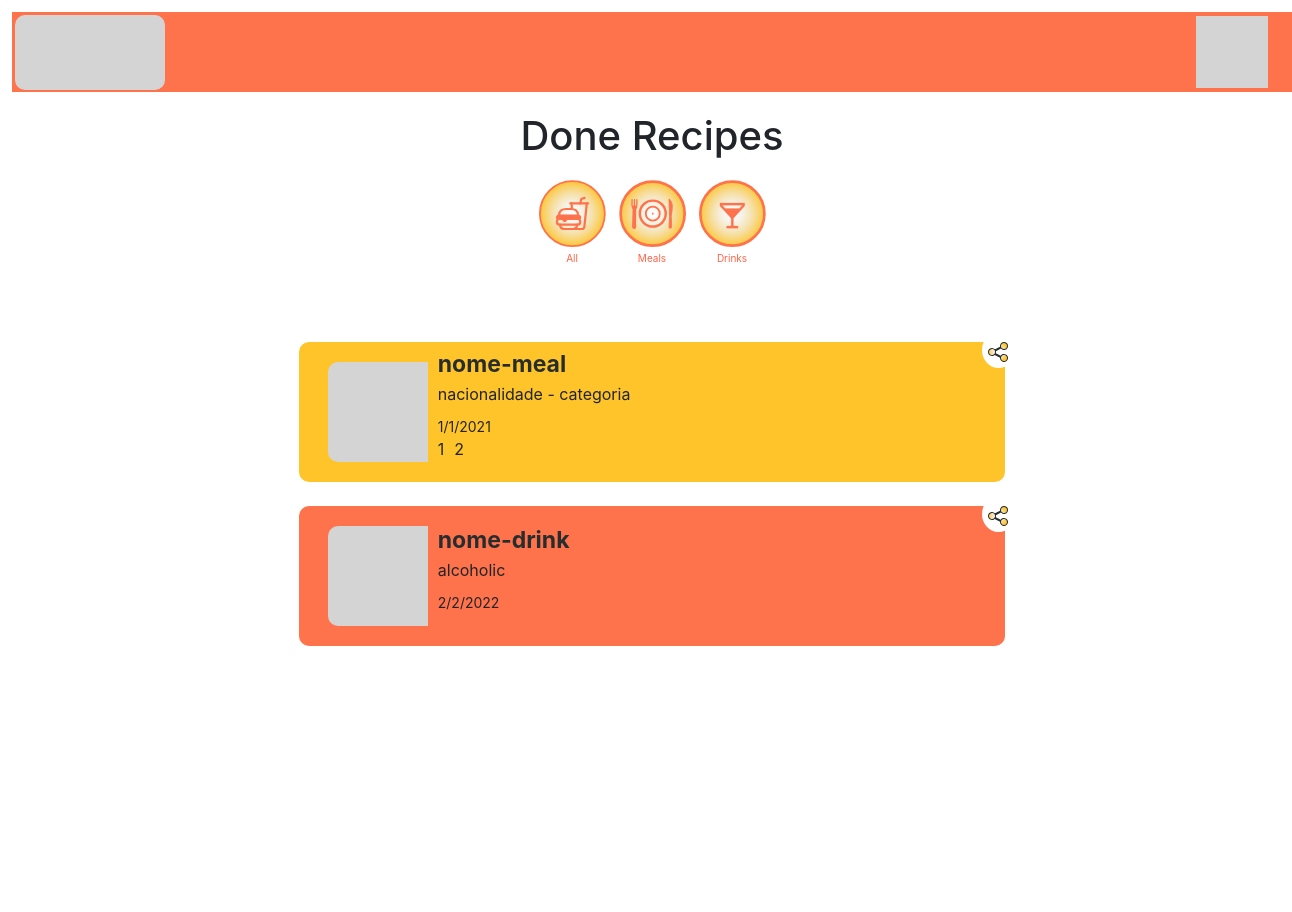
Testes para o componente DoneRecipes › verifica se filtra corretamente as bebidas ao clicar no botão Drinks e retira o filtro ao clicar em All
Expected: the text with test id "0-horizontal-name" reads "nome-meal", [438,350,566,378]
Click the button with test id "filter-by-drink-btn".
click(732, 223)  # box [692,178,772,268]
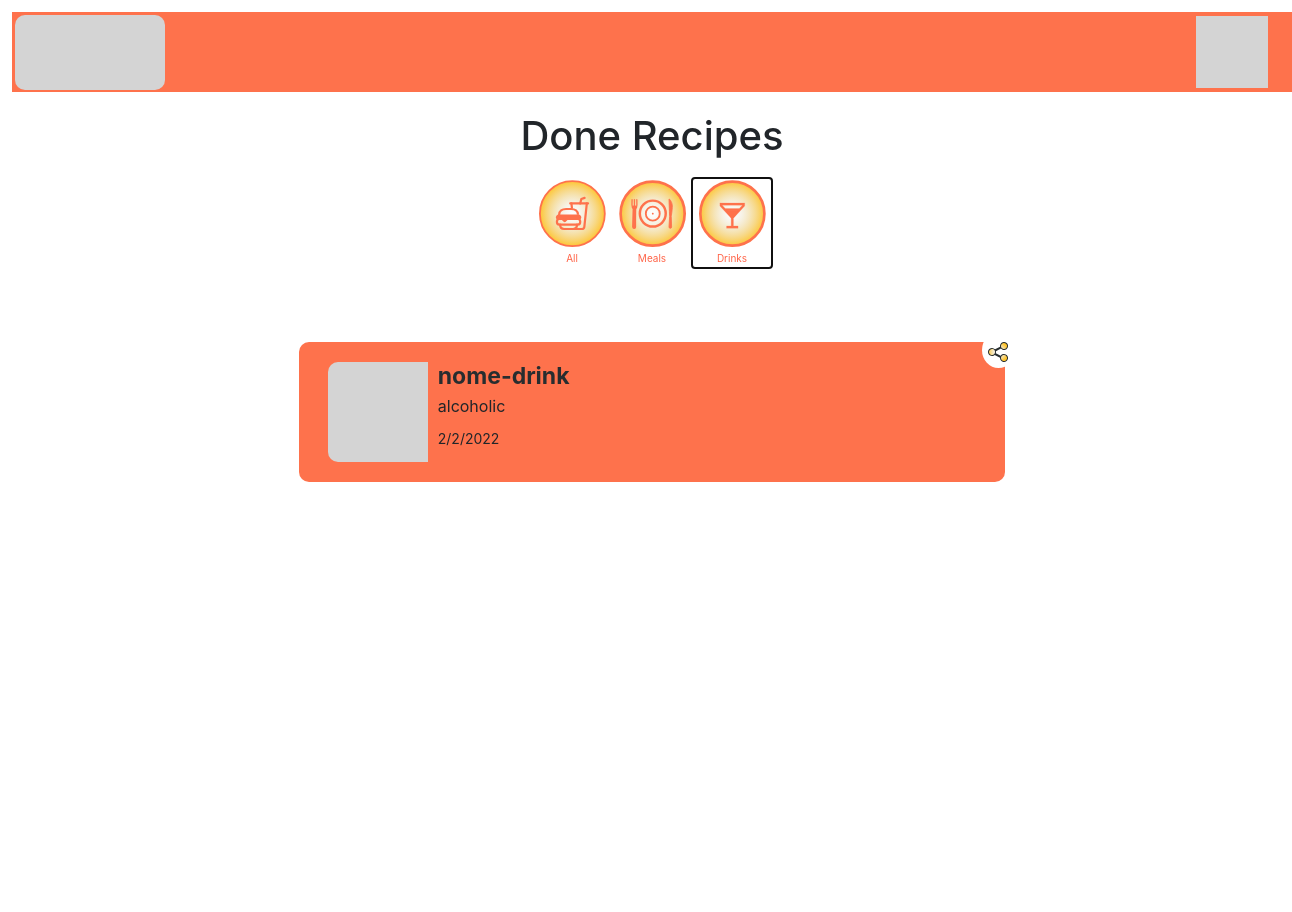
Click the button with test id "filter-by-all-btn".
click(572, 223)  # box [532,178,612,268]
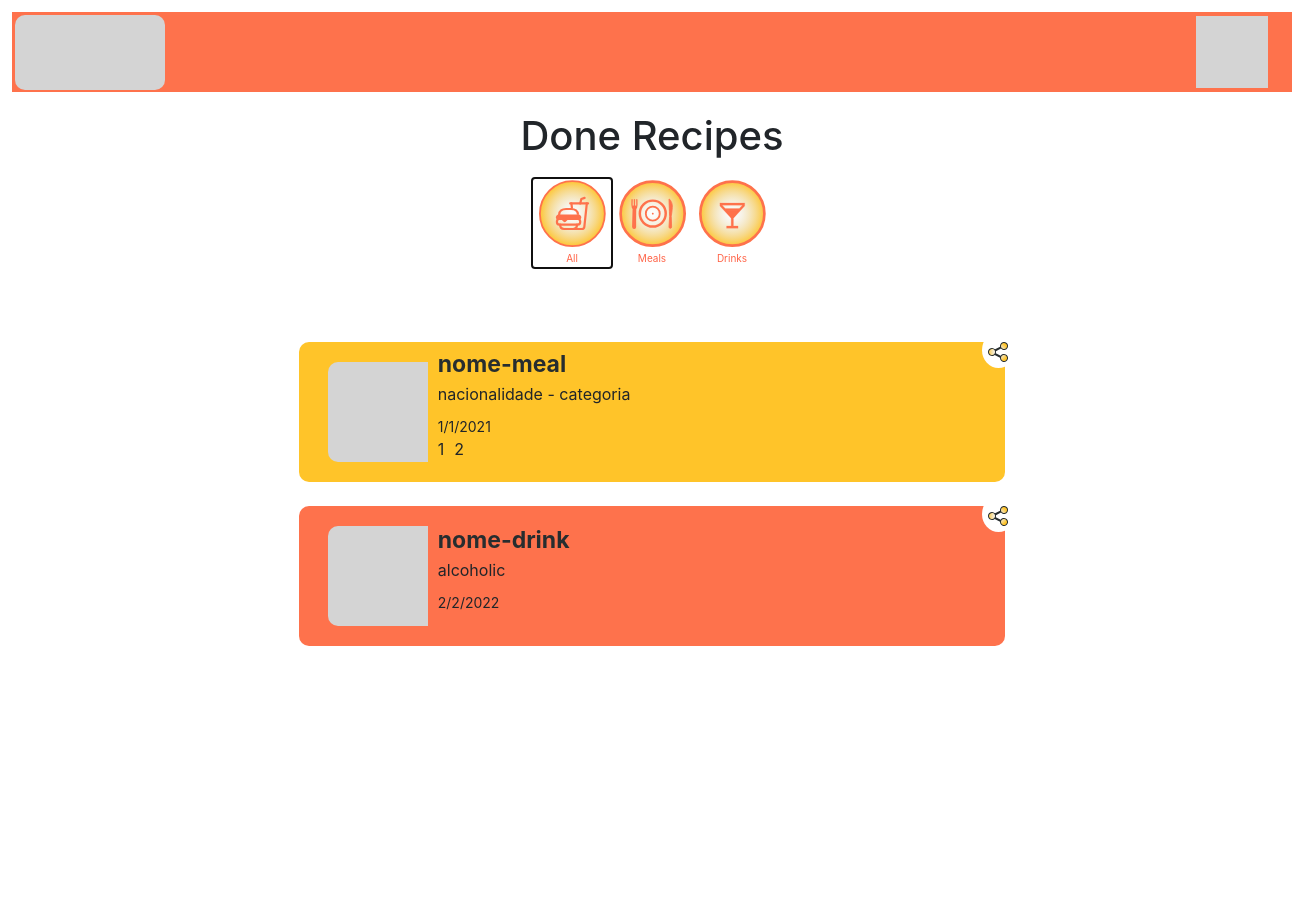
Now the text with test id "0-horizontal-name" reads "nome-meal", box [438,350,566,378]
